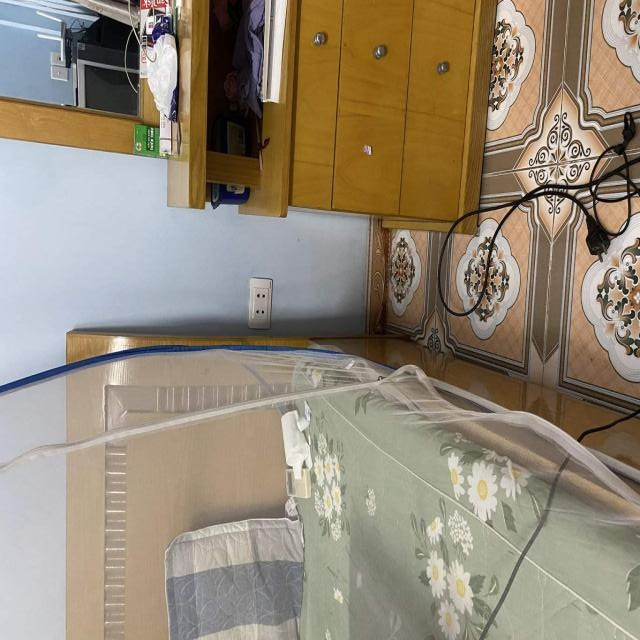outlet: (248, 279, 272, 329)
